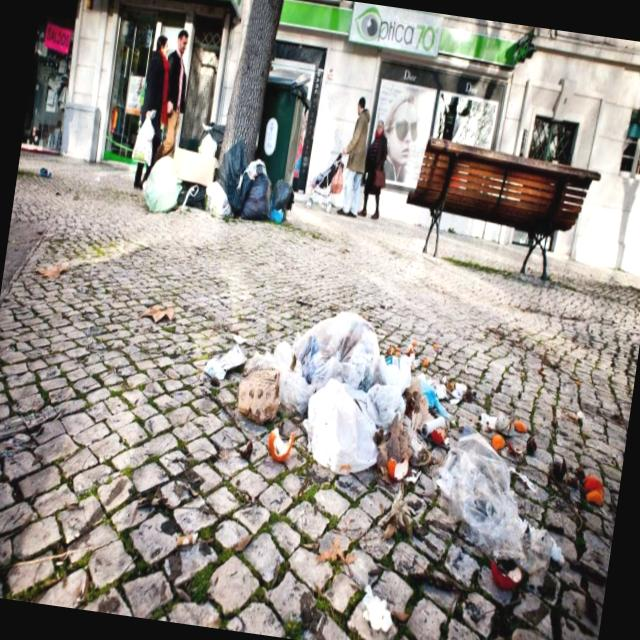garbage: (165, 262, 624, 624), (112, 107, 314, 260)
